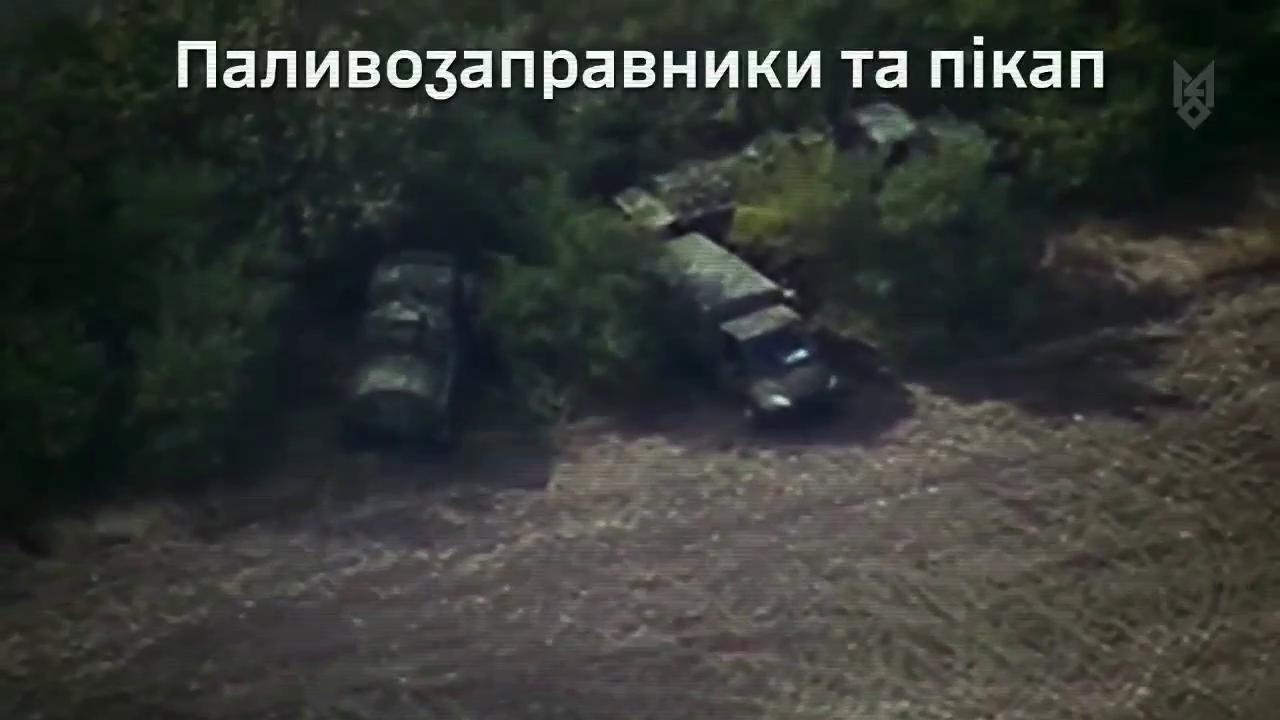tank: (607, 94, 994, 239), (638, 232, 850, 444), (336, 245, 483, 458)
